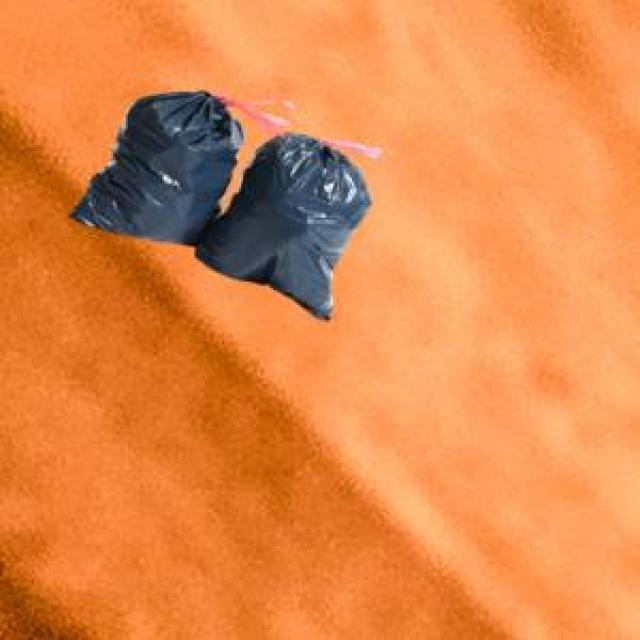miscellaneous trash: (64, 88, 378, 316)
